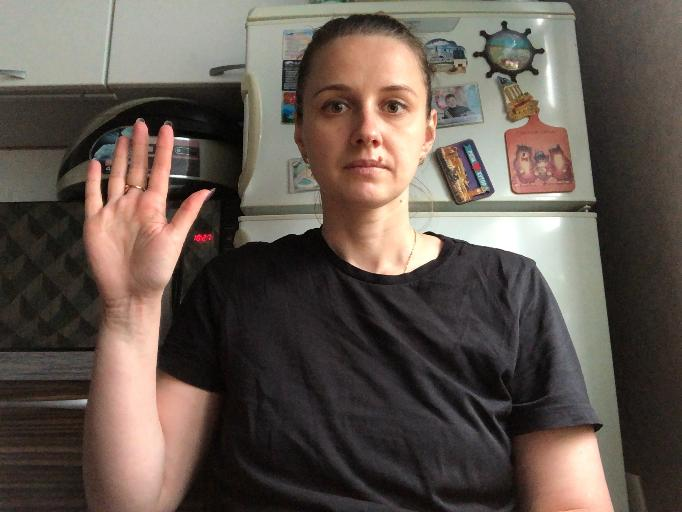stop: (76, 106, 218, 310)
